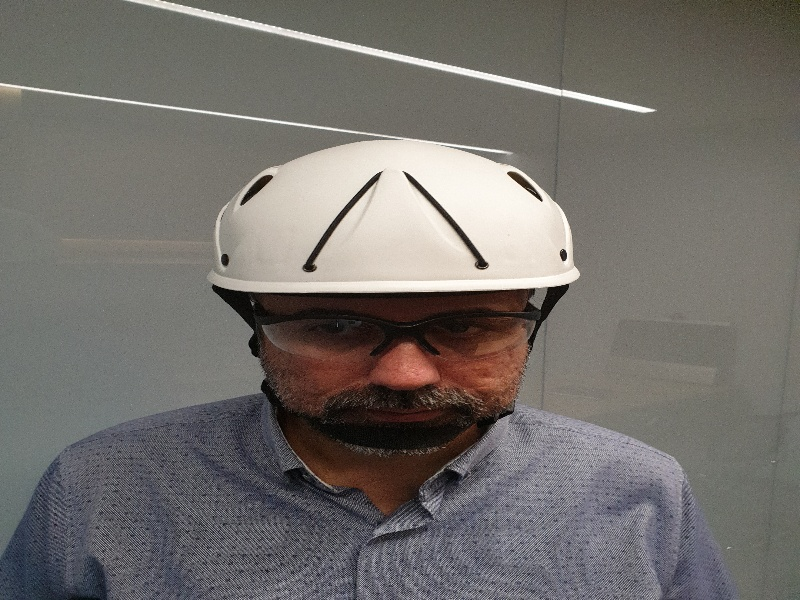Baret: (215, 141, 580, 288)
Gozluk: (252, 307, 542, 363)
